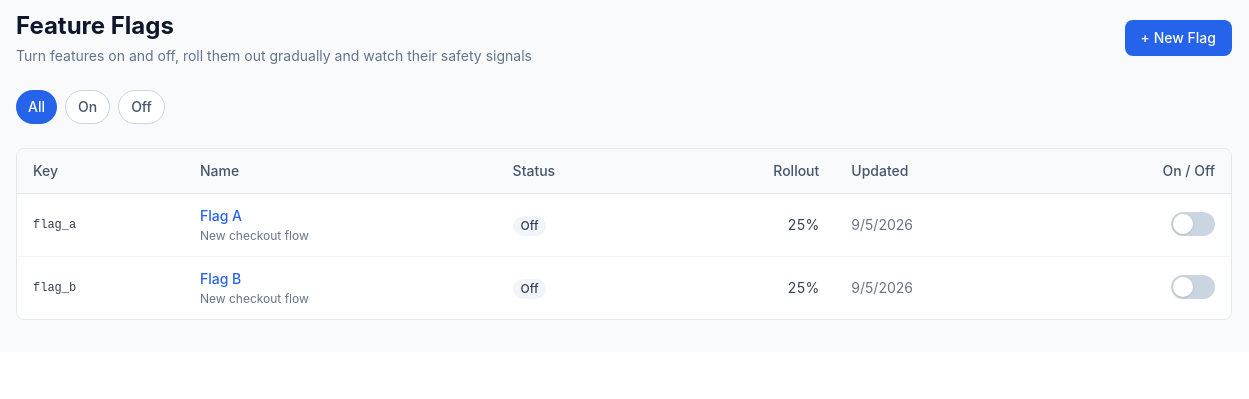
Test: FeatureFlagsPage › rolls back only the row that failed, leaving a concurrent toggle alone
expect the element with test id "flags-table" is shown: met, box x1=16 y1=148 x2=1232 y2=320
Click the switch with test id "flag-toggle-flag_a": x=1193, y=224 x1=1171 y1=212 x2=1215 y2=236
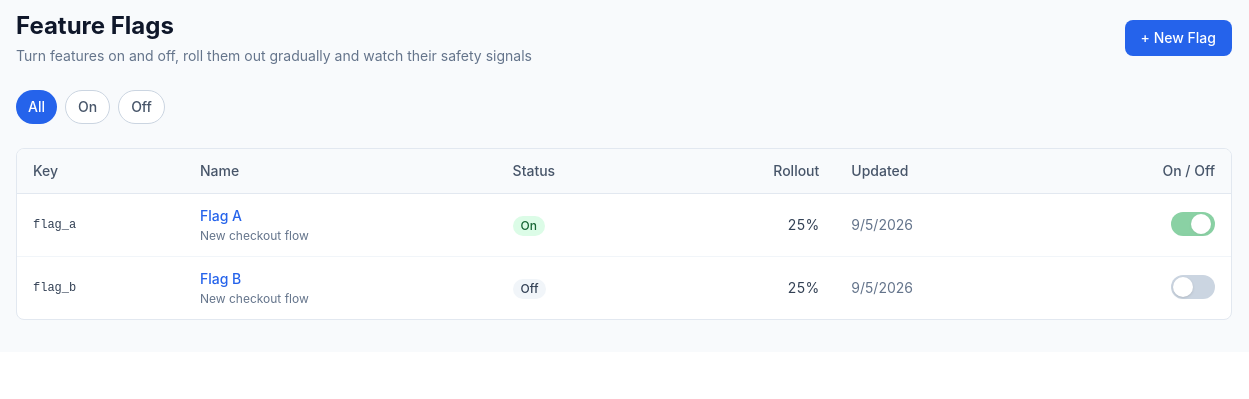
Click the switch with test id "flag-toggle-flag_b": x=1193, y=286 x1=1171 y1=274 x2=1215 y2=298
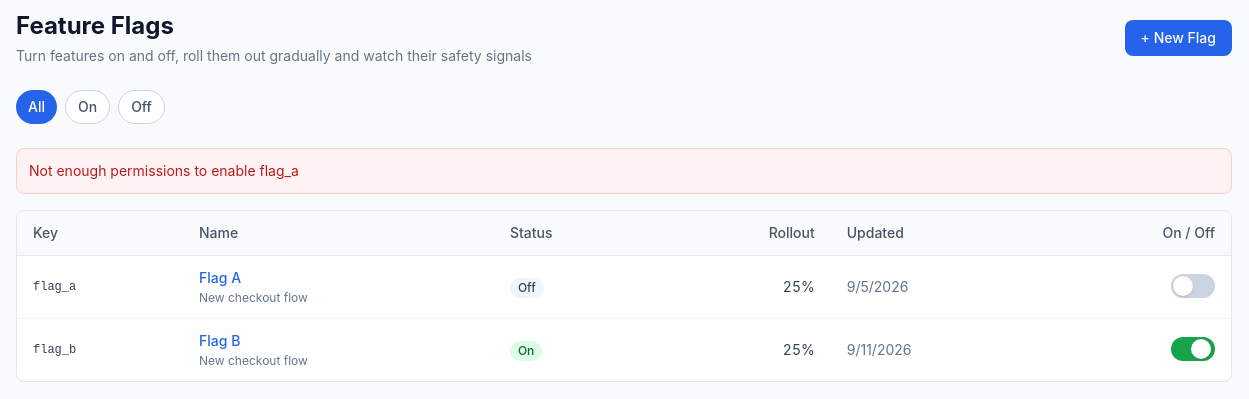
expect the message with test id "flag-toggle-error" shows "flag_a": met, box x1=29 y1=162 x2=299 y2=179
expect the text with test id "flag-status-pill" reads "Off": met, box x1=518 y1=280 x2=536 y2=294
expect the text with test id "flag-status-pill" reads "On": met, box x1=518 y1=342 x2=534 y2=358
